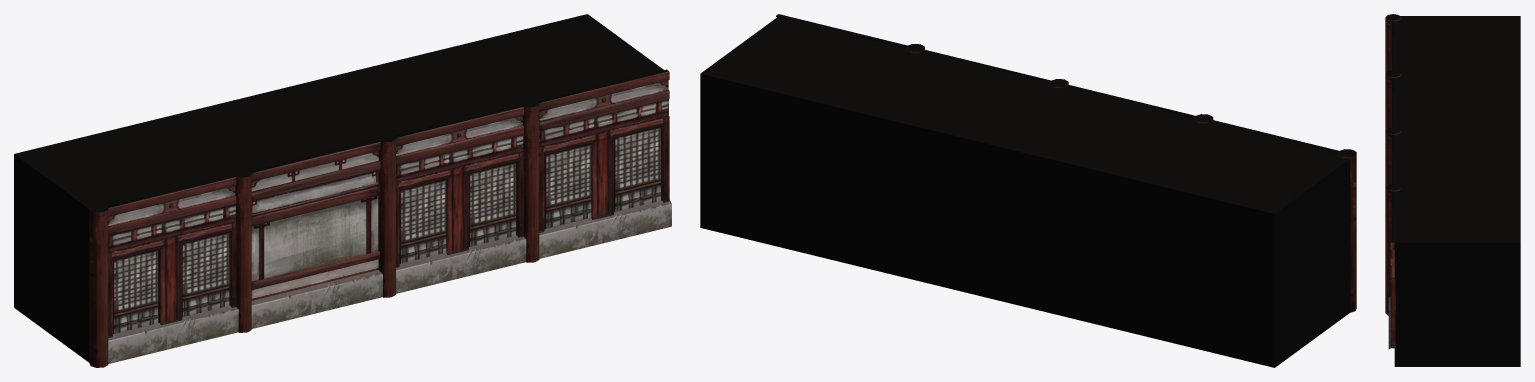
The model's file is STR_WallSimpleLong.FBX.
3 renders of one model, left to right at view 1: azimuth 30°, elevation 25°; view 2: azimuth 150°, elevation 25°; view 3: azimuth 270°, elevation 25°, orthographic. The views are drawn at different scales.
Visible parts, largest first — view 1: STR_WallSimpleLong; view 2: STR_WallSimpleLong; view 3: STR_WallSimpleLong.
Part boxes in pixels (<box>): STR_WallSimpleLong: <box>14,14,671,367</box>; STR_WallSimpleLong: <box>700,14,1356,367</box>; STR_WallSimpleLong: <box>1385,14,1520,366</box>.
Bounding box in the file's own units: 1211 × 311 × 303.
1 material, 1 textured.
